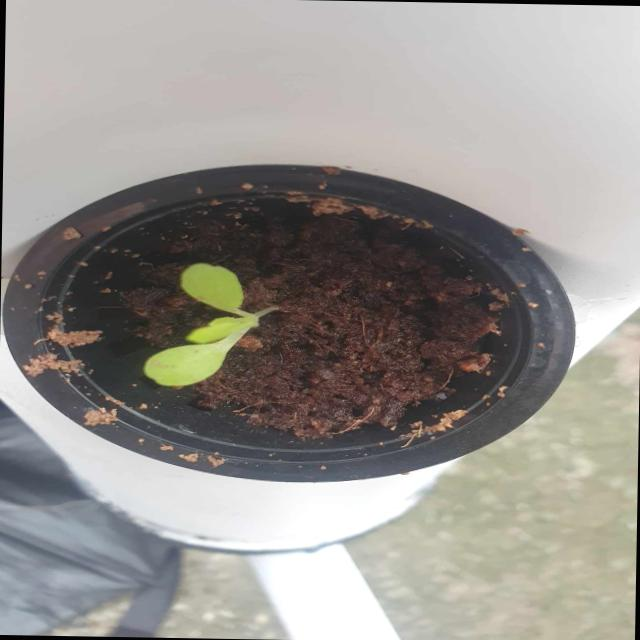Lettuce-Not-Ready-to-Harvest: (140, 259, 286, 388)
